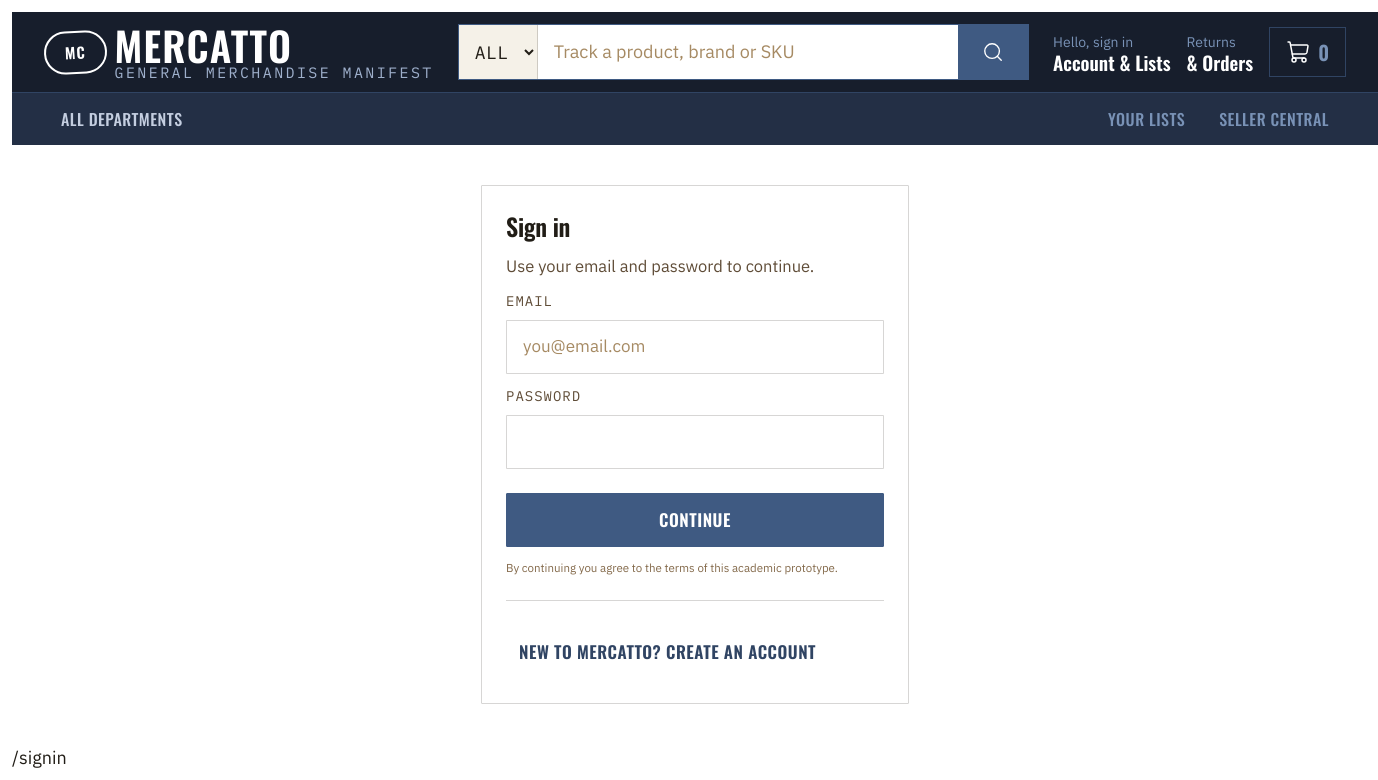
Test: Account page › sends signed-out visitors to sign in and brings them back afterwards
Expected: the heading "Sign in" is shown, [506, 208, 570, 244]
Step 1. Type "buyer@example.com" into the field labelled "Email" → [695, 347], box [506, 320, 884, 374]
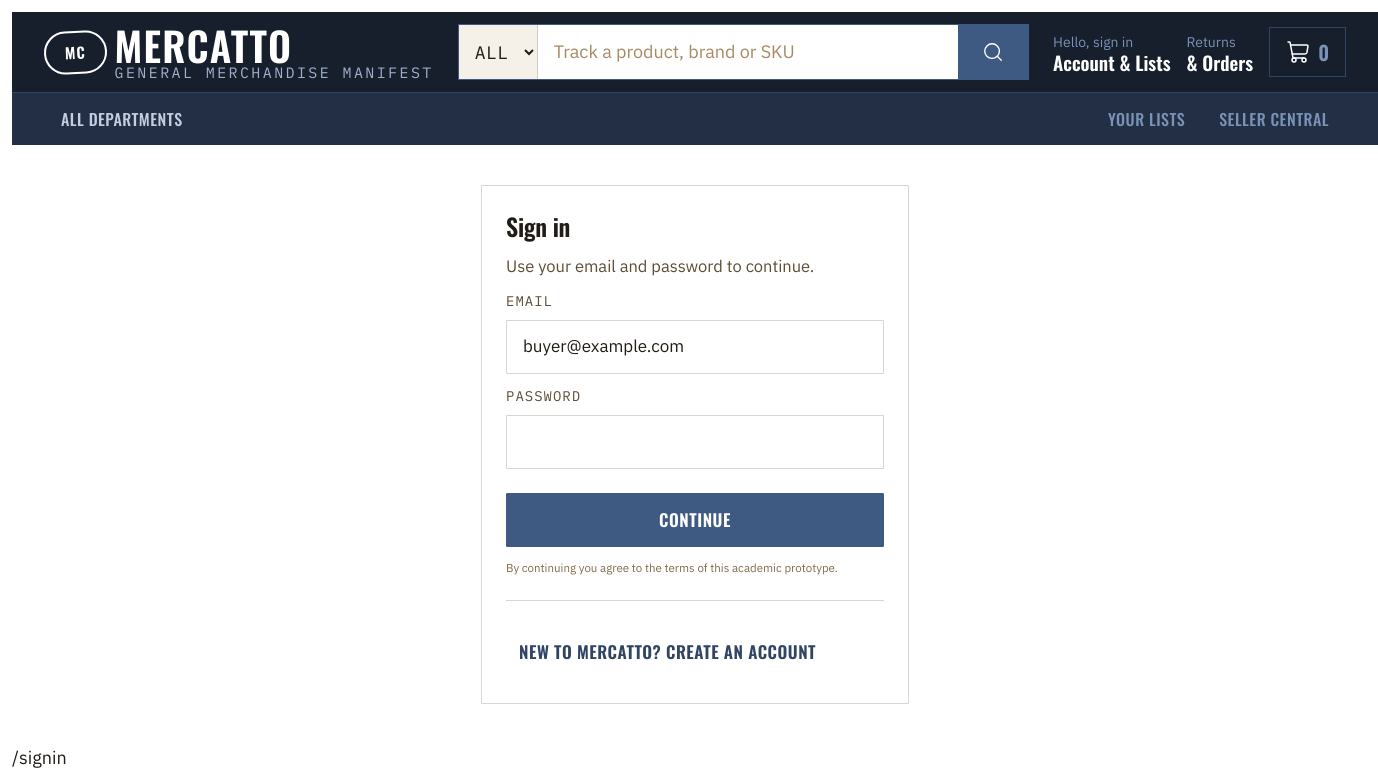
Step 2. Type "password123" into the password field labelled "Password" → [695, 442], box [506, 415, 884, 469]
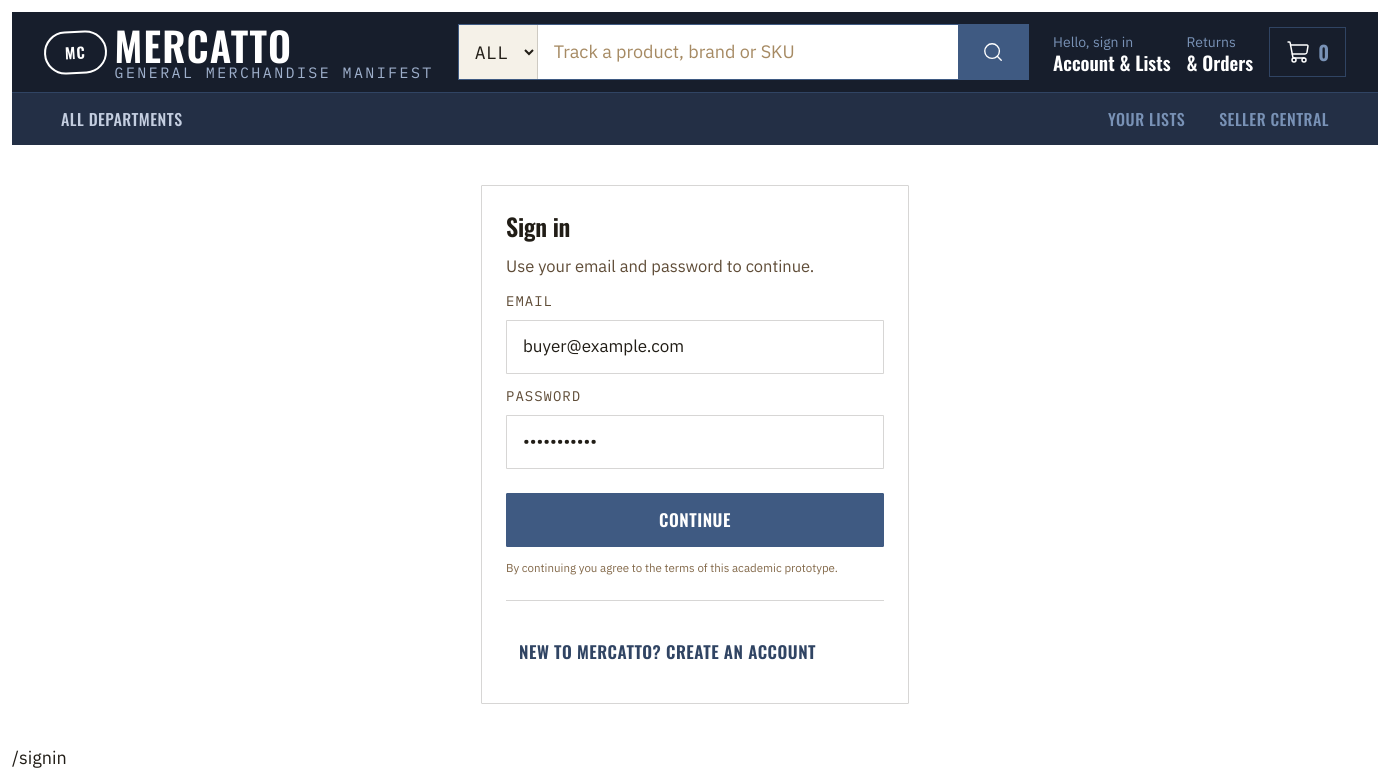
Step 3. Click the button "Continue" → [695, 520], box [506, 493, 884, 547]
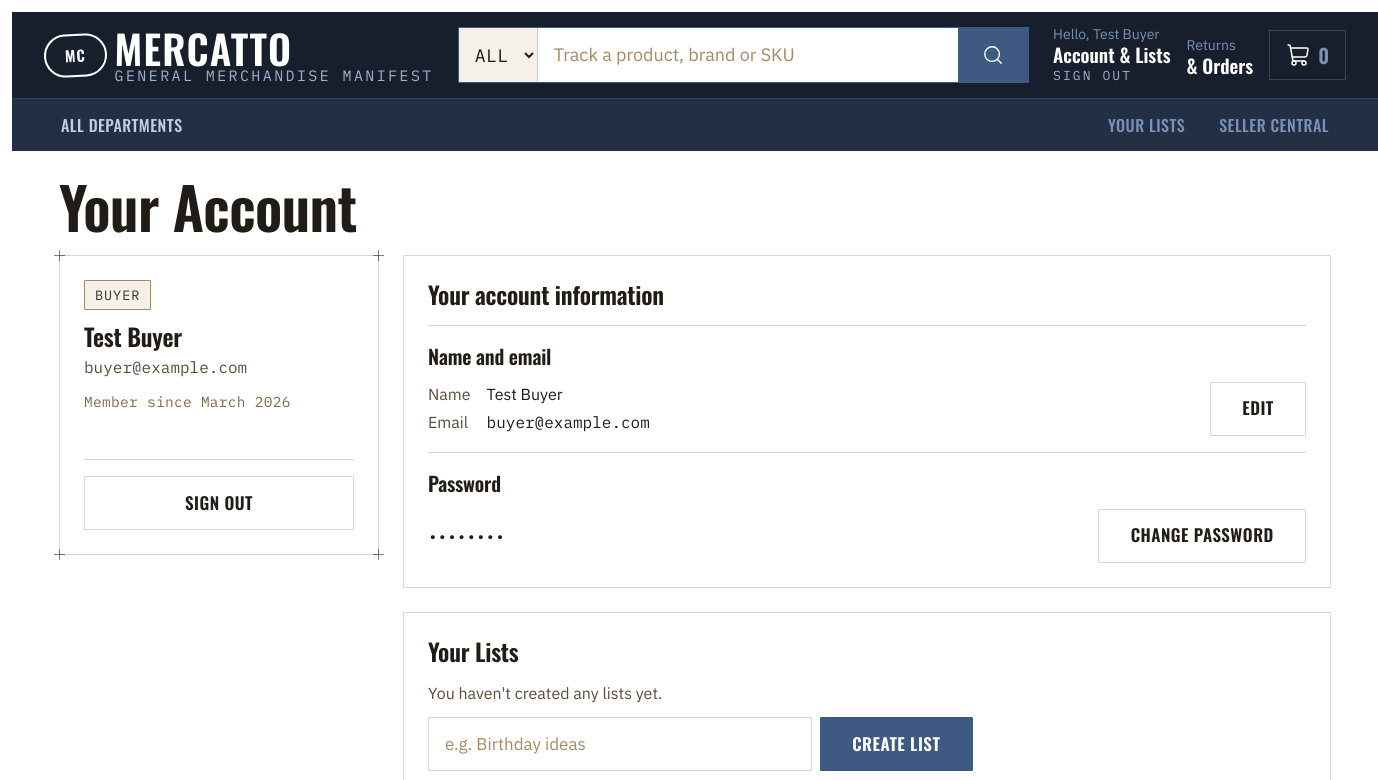
Expected: the heading "Your Account" is shown, [59, 163, 357, 249]
Expected: the heading "Test Buyer" is shown, [84, 318, 182, 354]
